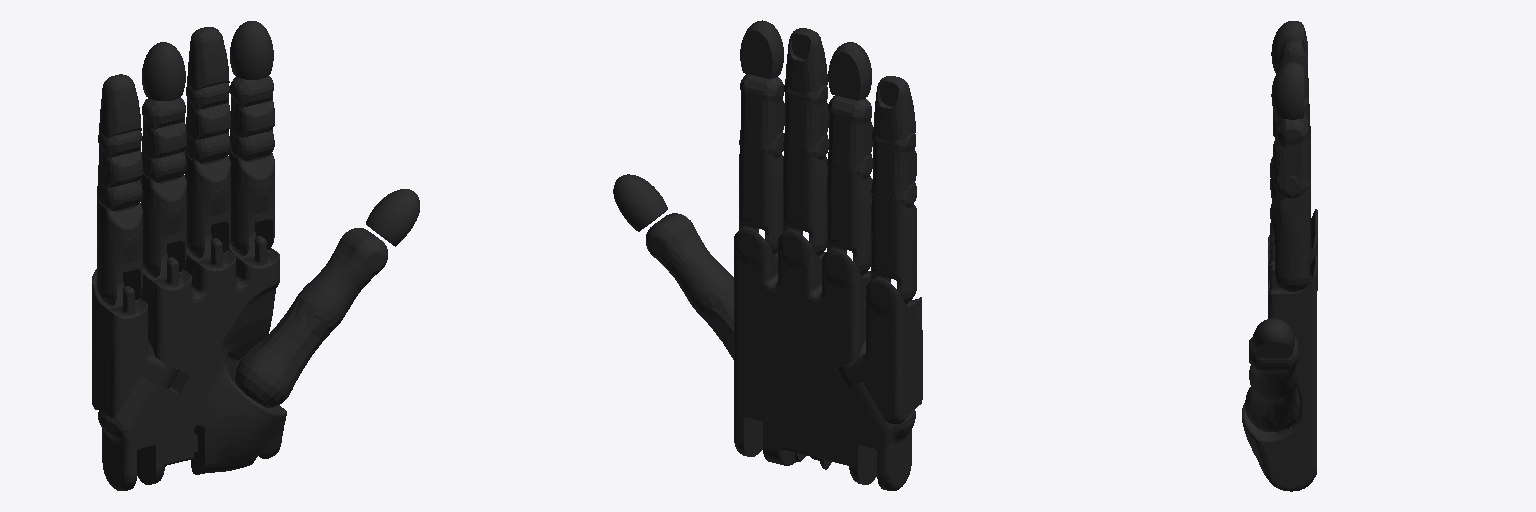
The robot description file, URDF, robot "shadowhand":
<robot name="shadowhand">
  <material name="Blue">
    <color rgba="0.0 0.0 0.8 1.0" />
  </material>
  <material name="Green">
    <color rgba="0.0 0.8 0.0 1.0" />
  </material>
  <material name="Grey">
    <color rgba="0.2 0.2 0.2 1.0" />
  </material>
  <material name="LightGrey">
    <color rgba="0.6 0.6 0.6 1.0" />
  </material>
  <material name="Red">
    <color rgba="0.8 0.0 0.0 1.0" />
  </material>
  <material name="White">
    <color rgba="1.0 1.0 1.0 1.0" />
  </material>
  <link name="palm">
    <inertial>
      <origin rpy="0 0 0" xyz="0 0 0.035" />
      <mass value="0.3" />
      <inertia ixx="0.5" ixy="0.0" ixz="0.0" iyy="0.5" iyz="0.0" izz="0.3" />
    </inertial>
    <visual>
      <origin rpy="0 0 0" xyz="0 0 0" />
      <geometry name="palm_visual">
        <mesh filename="meshes/palm.obj" scale="0.1 0.1 0.1" />
      </geometry>
      <material name="Grey" />
    </visual>
    <collision>
      <origin rpy="0 0 0" xyz="0.005 0 0.035" />
      <geometry name="palm_collision_geom">
        <box size="0.05 0.02 0.07" />
      </geometry>
    </collision>
  </link>
  <link name="ffknuckle">
    <inertial>
      <origin rpy="0 0 0" xyz="0 0 0" />

      <mass value="0.008" />
      <inertia ixx="0.0" ixy="0.0" ixz="0.0" iyy="0.1" iyz="0.0" izz="0.0" />
    </inertial>
  </link>
  <joint name="FFJ4" type="revolute">
    <parent link="palm" />
    <child link="ffknuckle" />

    <origin rpy="0 0 0" xyz="0.033 0 0.095" />
    <axis xyz="0 -1 0" />
    <limit effort="0" lower="-0.43633231299858238" upper="0.43633231299858238" velocity="1.0" />
    <dynamics damping="0" />
  </joint>
  <link name="ffproximal">
    <inertial>
      <mass value="0.014" />
      <origin xyz="0 0 0.0225" />
      <inertia ixx="0.1" ixy="0.0" ixz="0.0" iyy="0.1" iyz="0.0" izz="0.0" />
    </inertial>
    <visual>
      <origin rpy="0 0 0" xyz="0 0 0" />
      <geometry name="proximal_visual">
        <mesh filename="meshes/F3.obj" scale="0.1 0.1 0.1" />
      </geometry>
      <material name="Grey" />
    </visual>
    <collision>
      <origin rpy="0 0 0 " xyz="0 0 0.025" />
      <geometry name="proximal_collision_geom">
        <box size="0.008 0.008 0.04" />
      </geometry>
    </collision>
  </link>
  <joint name="FFJ3" type="revolute">
    <parent link="ffknuckle" />
    <child link="ffproximal" />
    <origin rpy="0 0 0" xyz="0 0 0" />
    <axis xyz="1 0 0" />
    <limit effort="0" lower="-1.57079632679" upper="1.57079632679" velocity="1.0" />
    <dynamics damping="0" />
  </joint>
  <link name="ffmiddle">
    <inertial>
      <origin rpy="0 0 0" xyz="0 0 0.0125" />
      <mass value="0.012" />
      <inertia ixx="0.1" ixy="0.0" ixz="0.0" iyy="0.1" iyz="0.0" izz="0.0" />
    </inertial>
    <visual>
      <origin rpy="0 0 0" xyz="0 0 0" />
      <geometry name="middle_visual">
        <mesh filename="meshes/F2.obj" scale="0.1 0.1 0.1" />
      </geometry>
      <material name="Grey" />
    </visual>
    <collision>
      <origin rpy="0 0 0" xyz="0 0 0.0125" />
      <geometry name="middle_collision_geom">
        <box size="0.008 0.008 0.015" />
      </geometry>
    </collision>
  </link>
  <joint name="FFJ2" type="revolute">
    <parent link="ffproximal" />
    <child link="ffmiddle" />
    <origin rpy="0 0 0" xyz="0 0 0.045" />
    <axis xyz="1 0 0" />
    <limit effort="0" lower="-1.57079632679" upper="1.57079632679" velocity="1.0" />
    <dynamics damping="0" />
  </joint>
  <link name="ffdistal">
    <inertial>
      <mass value="0.010" />
      <origin xyz="0 0 0.013" />
      <inertia ixx="0.1" ixy="0.0" ixz="0.0" iyy="0.1" iyz="0.0" izz="0.0" />
    </inertial>
    <visual>
      <origin rpy="0 0 0" xyz="0 0 0" />
      <geometry name="distal_visual">
        <mesh filename="meshes/distal_ellipsoid.obj" scale="0.1 0.1 0.1" />
      </geometry>
      <material name="Grey" />
    </visual>

    <collision>
      <origin rpy="0 0 0" xyz="0 0 0" />
      <geometry name="distal_collision_geom">
        <mesh filename="meshes/distal_ellipsoid.obj" scale="0.1 0.1 0.1" />
      </geometry>
    </collision>
  </link>
  <joint name="FFJ1" type="revolute">
    <parent link="ffmiddle" />
    <child link="ffdistal" />
    <origin rpy="0 0 0" xyz="0 0 0.025" />
    <axis xyz="1 0 0" />
    <limit effort="0" lower="-1.57079632679" upper="1.57079632679" velocity="1.0" />
    <dynamics damping="0" />
  </joint>
  <link name="fftip">
    <inertial>
      <mass value="0.001" />
      <inertia ixx="0.0" ixy="0.0" ixz="0.0" iyy="0.0" iyz="0.0" izz="0.0" />
    </inertial>
  </link>
  <joint name="FFtip" type="fixed">
    <parent link="ffdistal" />
    <child link="fftip" />
    <origin rpy="0 0 0" xyz="0 0 0.026" />
  </joint>
  <link name="mfknuckle">
    <inertial>
      <origin rpy="0 0 0" xyz="0 0 0" />

      <mass value="0.008" />
      <inertia ixx="0.0" ixy="0.0" ixz="0.0" iyy="0.1" iyz="0.0" izz="0.0" />
    </inertial>
  </link>
  <joint name="MFJ4" type="revolute">
    <parent link="palm" />
    <child link="mfknuckle" />

    <origin rpy="0 0 0" xyz="0.011 0 0.099" />
    <axis xyz="0 -1 0" />
    <limit effort="0" lower="-0.43633231299858238" upper="0.43633231299858238" velocity="1.0" />
    <dynamics damping="0" />
  </joint>
  <link name="mfproximal">
    <inertial>
      <mass value="0.014" />
      <origin xyz="0 0 0.0225" />
      <inertia ixx="0.1" ixy="0.0" ixz="0.0" iyy="0.1" iyz="0.0" izz="0.0" />
    </inertial>
    <visual>
      <origin rpy="0 0 0" xyz="0 0 0" />
      <geometry name="proximal_visual">
        <mesh filename="meshes/F3.obj" scale="0.1 0.1 0.1" />
      </geometry>
      <material name="Grey" />
    </visual>
    <collision>
      <origin rpy="0 0 0 " xyz="0 0 0.025" />
      <geometry name="proximal_collision_geom">
        <box size="0.008 0.008 0.04" />
      </geometry>
    </collision>
  </link>
  <joint name="MFJ3" type="revolute">
    <parent link="mfknuckle" />
    <child link="mfproximal" />
    <origin rpy="0 0 0" xyz="0 0 0" />
    <axis xyz="1 0 0" />
    <limit effort="0" lower="-1.57079632679" upper="1.57079632679" velocity="1.0" />
    <dynamics damping="0" />
  </joint>
  <link name="mfmiddle">
    <inertial>
      <origin rpy="0 0 0" xyz="0 0 0.0125" />
      <mass value="0.012" />
      <inertia ixx="0.1" ixy="0.0" ixz="0.0" iyy="0.1" iyz="0.0" izz="0.0" />
    </inertial>
    <visual>
      <origin rpy="0 0 0" xyz="0 0 0" />
      <geometry name="middle_visual">
        <mesh filename="meshes/F2.obj" scale="0.1 0.1 0.1" />
      </geometry>
      <material name="Grey" />
    </visual>
    <collision>
      <origin rpy="0 0 0" xyz="0 0 0.0125" />
      <geometry name="middle_collision_geom">
        <box size="0.008 0.008 0.015" />
      </geometry>
    </collision>
  </link>
  <joint name="MFJ2" type="revolute">
    <parent link="mfproximal" />
    <child link="mfmiddle" />
    <origin rpy="0 0 0" xyz="0 0 0.045" />
    <axis xyz="1 0 0" />
    <limit effort="0" lower="-1.57079632679" upper="1.57079632679" velocity="1.0" />
    <dynamics damping="0" />
  </joint>
  <link name="mfdistal">
    <inertial>
      <mass value="0.010" />
      <origin xyz="0 0 0.013" />
      <inertia ixx="0.1" ixy="0.0" ixz="0.0" iyy="0.1" iyz="0.0" izz="0.0" />
    </inertial>
    <visual>
      <origin rpy="0 0 0" xyz="0 0 0" />
      <geometry name="distal_visual">
        <mesh filename="meshes/F1.obj" scale="0.1 0.1 0.1" />
      </geometry>
      <material name="Grey" />
    </visual>

    <collision>
      <origin rpy="0 0 0" xyz="0 0 0" />
      <geometry name="distal_collision_geom">
        <mesh filename="meshes/F1.obj" scale="0.1 0.1 0.1" />
      </geometry>
    </collision>
  </link>
  <joint name="MFJ1" type="revolute">
    <parent link="mfmiddle" />
    <child link="mfdistal" />
    <origin rpy="0 0 0" xyz="0 0 0.025" />
    <axis xyz="1 0 0" />
    <limit effort="0" lower="-1.57079632679" upper="1.57079632679" velocity="1.0" />
    <dynamics damping="0" />
  </joint>
  <link name="mftip">
    <inertial>
      <mass value="0.001" />
      <inertia ixx="0.0" ixy="0.0" ixz="0.0" iyy="0.0" iyz="0.0" izz="0.0" />
    </inertial>
  </link>
  <joint name="MFtip" type="fixed">
    <parent link="mfdistal" />
    <child link="mftip" />
    <origin rpy="0 0 0" xyz="0 0 0.026" />
  </joint>
  <link name="rfknuckle">
    <inertial>
      <origin rpy="0 0 0" xyz="0 0 0" />

      <mass value="0.008" />
      <inertia ixx="0.0" ixy="0.0" ixz="0.0" iyy="0.1" iyz="0.0" izz="0.0" />
    </inertial>
  </link>
  <joint name="RFJ4" type="revolute">
    <parent link="palm" />
    <child link="rfknuckle" />

    <origin rpy="0 0 0" xyz="-0.011 0 0.095" />
    <axis xyz="0 -1 0" />
    <limit effort="0" lower="-0.43633231299858238" upper="0.43633231299858238" velocity="1.0" />
    <dynamics damping="0" />
  </joint>
  <link name="rfproximal">
    <inertial>
      <mass value="0.014" />
      <origin xyz="0 0 0.0225" />
      <inertia ixx="0.1" ixy="0.0" ixz="0.0" iyy="0.1" iyz="0.0" izz="0.0" />
    </inertial>
    <visual>
      <origin rpy="0 0 0" xyz="0 0 0" />
      <geometry name="proximal_visual">
        <mesh filename="meshes/F3.obj" scale="0.1 0.1 0.1" />
      </geometry>
      <material name="Grey" />
    </visual>
    <collision>
      <origin rpy="0 0 0 " xyz="0 0 0.025" />
      <geometry name="proximal_collision_geom">
        <box size="0.008 0.008 0.04" />
      </geometry>
    </collision>
  </link>
  <joint name="RFJ3" type="revolute">
    <parent link="rfknuckle" />
    <child link="rfproximal" />
    <origin rpy="0 0 0" xyz="0 0 0" />
    <axis xyz="1 0 0" />
    <limit effort="0" lower="-1.57079632679" upper="1.57079632679" velocity="1.0" />
    <dynamics damping="0" />
  </joint>
  <link name="rfmiddle">
    <inertial>
      <origin rpy="0 0 0" xyz="0 0 0.0125" />
      <mass value="0.012" />
      <inertia ixx="0.1" ixy="0.0" ixz="0.0" iyy="0.1" iyz="0.0" izz="0.0" />
    </inertial>
    <visual>
      <origin rpy="0 0 0" xyz="0 0 0" />
      <geometry name="middle_visual">
        <mesh filename="meshes/F2.obj" scale="0.1 0.1 0.1" />
      </geometry>
      <material name="Grey" />
    </visual>
    <collision>
      <origin rpy="0 0 0" xyz="0 0 0.0125" />
      <geometry name="middle_collision_geom">
        <box size="0.008 0.008 0.015" />
      </geometry>
    </collision>
  </link>
  <joint name="RFJ2" type="revolute">
    <parent link="rfproximal" />
    <child link="rfmiddle" />
    <origin rpy="0 0 0" xyz="0 0 0.045" />
    <axis xyz="1 0 0" />
    <limit effort="0" lower="-1.57079632679" upper="1.57079632679" velocity="1.0" />
    <dynamics damping="0" />
  </joint>
  <link name="rfdistal">
    <inertial>
      <mass value="0.010" />
      <origin xyz="0 0 0.013" />
      <inertia ixx="0.1" ixy="0.0" ixz="0.0" iyy="0.1" iyz="0.0" izz="0.0" />
    </inertial>
    <visual>
      <origin rpy="0 0 0" xyz="0 0 0" />
      <geometry name="distal_visual">
        <mesh filename="meshes/distal_ellipsoid.obj" scale="0.1 0.1 0.1" />
      </geometry>
      <material name="Grey" />
    </visual>

    <collision>
      <origin rpy="0 0 0" xyz="0 0 0" />
      <geometry name="distal_collision_geom">
        <mesh filename="meshes/distal_ellipsoid.obj" scale="0.1 0.1 0.1" />
      </geometry>
    </collision>
  </link>
  <joint name="RFJ1" type="revolute">
    <parent link="rfmiddle" />
    <child link="rfdistal" />
    <origin rpy="0 0 0" xyz="0 0 0.025" />
    <axis xyz="1 0 0" />
    <limit effort="0" lower="-1.57079632679" upper="1.57079632679" velocity="1.0" />
    <dynamics damping="0" />
  </joint>
  <link name="rftip">
    <inertial>
      <mass value="0.001" />
      <inertia ixx="0.0" ixy="0.0" ixz="0.0" iyy="0.0" iyz="0.0" izz="0.0" />
    </inertial>
  </link>
  <joint name="RFtip" type="fixed">
    <parent link="rfdistal" />
    <child link="rftip" />
    <origin rpy="0 0 0" xyz="0 0 0.026" />
  </joint>
  <link name="lfmetacarpal">
    <inertial>
      <origin rpy="0 0 0" xyz="0 0 0.04" />
      <mass value="0.075" />
      <inertia ixx="0.1" ixy="0.0" ixz="0.0" iyy="0.1" iyz="0.0" izz="0.1" />
    </inertial>
    <visual>
      <origin rpy="0 0 0" xyz="0 0 0" />
      <geometry name="lfmetacarpal_visual">
        <mesh filename="meshes/lfmetacarpal.obj" scale="0.1 0.1 0.1" />
      </geometry>
      <material name="Grey" />
    </visual>
    <collision>
      <origin rpy="0 0 0" xyz="0 0 0.04" />
      <geometry name="lfmetacarpal_collision_geom">
        <box size="0.008 0.008 0.03" />
      </geometry>
    </collision>
  </link>
  <joint name="LFJ5" type="revolute">
    <parent link="palm" />
    <child link="lfmetacarpal" />
    <origin rpy="0 0 0" xyz="-0.033 0 0.02071" />
    <axis xyz="0.573576436 0 0.819152044" />
    <limit effort="0" lower="-0.69813170079773179" upper="0.69813170079773179" velocity="1.0" />
    <dynamics damping="0" />
  </joint>
  <link name="lfknuckle">
    <inertial>
      <origin rpy="0 0 0" xyz="0 0 0.06579" />
      <mass value="0.008" />
      <inertia ixx="0.1" ixy="0.0" ixz="0.0" iyy="0.1" iyz="0.0" izz="0.1" />
    </inertial>
  </link>
  <joint name="LFJ4" type="revolute">
    <parent link="lfmetacarpal" />
    <child link="lfknuckle" />
    <origin rpy="0 0 0" xyz="0 0 0.06579" />
    <axis xyz="0 1 0" />
    <limit effort="0" lower="-0.43633231299858238" upper="0.43633231299858238" velocity="1.0" />
    <dynamics damping="0" />
  </joint>
  <link name="lfproximal">
    <inertial>
      <mass value="0.014" />
      <origin xyz="0 0 0.0225" />
      <inertia ixx="0.1" ixy="0.0" ixz="0.0" iyy="0.1" iyz="0.0" izz="0.0" />
    </inertial>
    <visual>
      <origin rpy="0 0 0" xyz="0 0 0" />
      <geometry name="proximal_visual">
        <mesh filename="meshes/F3.obj" scale="0.1 0.1 0.1" />
      </geometry>
      <material name="Grey" />
    </visual>
    <collision>
      <origin rpy="0 0 0 " xyz="0 0 0.025" />
      <geometry name="proximal_collision_geom">
        <box size="0.008 0.008 0.04" />
      </geometry>
    </collision>
  </link>
  <joint name="LFJ3" type="revolute">
    <parent link="lfknuckle" />
    <child link="lfproximal" />
    <origin rpy="0 0 0" xyz="0 0 0" />
    <axis xyz="1 0 0" />
    <limit effort="0" lower="-1.57079632679" upper="1.57079632679" velocity="1.0" />
    <dynamics damping="0" />
  </joint>
  <link name="lfmiddle">
    <inertial>
      <origin rpy="0 0 0" xyz="0 0 0.0125" />
      <mass value="0.012" />
      <inertia ixx="0.1" ixy="0.0" ixz="0.0" iyy="0.1" iyz="0.0" izz="0.0" />
    </inertial>
    <visual>
      <origin rpy="0 0 0" xyz="0 0 0" />
      <geometry name="middle_visual">
        <mesh filename="meshes/F2.obj" scale="0.1 0.1 0.1" />
      </geometry>
      <material name="Grey" />
    </visual>
    <collision>
      <origin rpy="0 0 0" xyz="0 0 0.0125" />
      <geometry name="middle_collision_geom">
        <box size="0.008 0.008 0.015" />
      </geometry>
    </collision>
  </link>
  <joint name="LFJ2" type="revolute">
    <parent link="lfproximal" />
    <child link="lfmiddle" />
    <origin rpy="0 0 0" xyz="0 0 0.045" />
    <axis xyz="1 0 0" />
    <limit effort="0" lower="-1.57079632679" upper="1.57079632679" velocity="1.0" />
    <dynamics damping="0" />
  </joint>
  <link name="lfdistal">
    <inertial>
      <mass value="0.010" />
      <origin xyz="0 0 0.013" />
      <inertia ixx="0.1" ixy="0.0" ixz="0.0" iyy="0.1" iyz="0.0" izz="0.0" />
    </inertial>
    <visual>
      <origin rpy="0 0 0" xyz="0 0 0" />
      <geometry name="distal_visual">
        <mesh filename="meshes/F1.obj" scale="0.1 0.1 0.1" />
      </geometry>
      <material name="Grey" />
    </visual>

    <collision>
      <origin rpy="0 0 0" xyz="0 0 0" />
      <geometry name="distal_collision_geom">
        <mesh filename="meshes/F1.obj" scale="0.1 0.1 0.1" />
      </geometry>
    </collision>
  </link>
  <joint name="LFJ1" type="revolute">
    <parent link="lfmiddle" />
    <child link="lfdistal" />
    <origin rpy="0 0 0" xyz="0 0 0.025" />
    <axis xyz="1 0 0" />
    <limit effort="0" lower="-1.57079632679" upper="1.57079632679" velocity="1.0" />
    <dynamics damping="0" />
  </joint>
  <link name="lftip">
    <inertial>
      <mass value="0.001" />
      <inertia ixx="0.0" ixy="0.0" ixz="0.0" iyy="0.0" iyz="0.0" izz="0.0" />
    </inertial>
  </link>
  <joint name="LFtip" type="fixed">
    <parent link="lfdistal" />
    <child link="lftip" />
    <origin rpy="0 0 0" xyz="0 0 0.026" />
  </joint>
  <link name="thbase">
    <inertial>
      <mass value="0.010" />
      <origin rpy="0 0 0" xyz="0 0 0" />
      <inertia ixx="0.0" ixy="0.0" ixz="0.0" iyy="0.0" iyz="0.0" izz="0.1" />
    </inertial>
  </link>
  <joint name="THJ5" type="revolute">
    <parent link="palm" />
    <child link="thbase" />
    <origin rpy="0 0.785398163397 0" xyz="0.034 -0.0085 0.029" />
    <axis xyz="0 0 -1.0" />
    <limit effort="0" lower="-1.047" upper="1.047" velocity="1.0" />
    <dynamics damping="0" />
  </joint>
  <link name="thproximal">
    <inertial>
      <mass value="0.016" />
      <origin rpy="0 0 0" xyz="0 0 0.019" />
      <inertia ixx="0.1" ixy="0.0" ixz="0.0" iyy="0.1" iyz="0.0" izz="0.1" />
    </inertial>
    <visual>
      <origin rpy="0 0 0" xyz="0 0 0" />
      <geometry name="thproximal_visual">
        <mesh filename="meshes/TH3_z.obj" scale="0.1 0.1 0.1" />
      </geometry>
      <material name="shadow_thproximal_material">
        <color rgba="0.2 0.2 0.2 1.0" />
      </material>
    </visual>
    <collision>
      <origin rpy="0 0 0" xyz="0 0 0.019" />
      <geometry name="thproximal_collision_geom">
        <box size="0.008 0.008 0.020" />
      </geometry>
    </collision>
  </link>
  <joint name="THJ4" type="revolute">
    <parent link="thbase" />
    <child link="thproximal" />
    <origin rpy="0 0 0" xyz="0 0 0" />
    <axis xyz="1.0 0 0" />
    <limit effort="0" lower="-1.309" upper="1.309" velocity="1.0" />
    <dynamics damping="0" />
  </joint>
  <link name="thhub">
    <inertial>
      <mass value="0.002" />
      <origin rpy="0 0 0" xyz="0 0 0" />
      <inertia ixx="0.1" ixy="0.0" ixz="0.0" iyy="0.1" iyz="0.0" izz="0.1" />
    </inertial>
  </link>
  <joint name="THJ3" type="revolute">
    <parent link="thproximal" />
    <child link="thhub" />
    <origin rpy="0 0 0" xyz="0 0 0.038" />
    <axis xyz="1 0 0" />
    <limit effort="0" lower="-0.2618" upper="0.2618" velocity="1.0" />
    <dynamics damping="0" />
  </joint>
  <link name="thmiddle">
    <inertial>
      <mass value="0.016" />
      <origin rpy="0 0 0" xyz="0 0 0.016" />
      <inertia ixx="0.1" ixy="0.0" ixz="0.0" iyy="0.1" iyz="0.0" izz="0.1" />
    </inertial>
    <visual>
      <origin rpy="0 0 0" xyz="0 0 0" />
      <geometry name="thmiddle_visual">
        <mesh filename="meshes/TH2_z.obj" scale="0.1 0.1 0.1" />
      </geometry>
      <material name="shadow_thmiddle_material">
        <color rgba="0.2 0.2 0.2 1.0" />
      </material>
    </visual>
    <collision>
      <origin rpy="0 0 0 " xyz="0 0 0.016" />
      <geometry name="thmiddle_collision_geom">
        <box size="0.008 0.008 0.015" />
      </geometry>
    </collision>
  </link>
  <joint name="THJ2" type="revolute">
    <parent link="thhub" />
    <child link="thmiddle" />
    <origin rpy="0 0 0" xyz="0 0 0" />
    <axis xyz="0 -1 0" />
    <limit effort="0" lower="-0.5237" upper="0.5237" velocity="1.0" />
    <dynamics damping="0" />
  </joint>
  <link name="thdistal">
    <inertial>
      <mass value="0.016" />
      <origin rpy="0 0 0" xyz="0 0 0.01375" />
      <inertia ixx="0.1" ixy="0.0" ixz="0.0" iyy="0.1" iyz="0.0" izz="0.1" />
    </inertial>
    <visual>
      <origin rpy="0 0 0" xyz="0 0.002 0.0025" />
      <geometry name="thdistal_visual">
        <mesh filename="meshes/distal_ellipsoid.obj" scale="0.1 0.1 0.1" />
      </geometry>
      <material name="shadow_thmiddle_material">
        <color rgba="0.2 0.2 0.2 1.0" />
      </material>
    </visual>
    <collision>
      <origin rpy="0 0 0 " xyz="0 0.002 0.0025" />
      <geometry name="thmiddle_collision_geom">
        <mesh filename="meshes/distal_ellipsoid.obj" scale="0.1 0.1 0.1" />
      </geometry>
    </collision>
  </link>
  <joint name="THJ1" type="revolute">
    <parent link="thmiddle" />
    <child link="thdistal" />
    <origin rpy="0 0 -1.570796327" xyz="0 0 0.032" />
    <axis xyz="1 0 0" />
    <limit effort="0" lower="-1.57079632679" upper="1.57079632679" velocity="1.0" />
    <dynamics damping="0" />
  </joint>
  <link name="thtip">
    <inertial>
      <mass value="0.001" />
      <inertia ixx="0.0" ixy="0.0" ixz="0.0" iyy="0.0" iyz="0.0" izz="0.0" />
    </inertial>
  </link>
  <joint name="thtip" type="fixed">
    <parent link="thdistal" />
    <child link="thtip" />
    <origin rpy="0 0 0" xyz="0 0 0.0275" />
  </joint>
  </robot>

--- What the picture shows (computed from the rendered views, not written in the file) ---
The picture shows the robot from 3 angles, left to right: view 1: azimuth 30°, elevation 25°; view 2: azimuth 150°, elevation 25°; view 3: azimuth 270°, elevation 25°; orthographic projection.
Robot: shadowhand — 28 links, 27 joints (22 revolute, 5 fixed); root link palm; default pose: every joint at zero.
Visible links, largest first — view 1: palm, lfmetacarpal, thproximal, thmiddle, lfproximal, rfproximal, mfproximal, ffproximal, rfmiddle, ffmiddle, lfmiddle, mfmiddle (+5 smaller); view 2: palm, lfmetacarpal, thmiddle, lfproximal, rfproximal, mfproximal, ffproximal, rfmiddle, ffmiddle, lfmiddle, mfmiddle, mfdistal (+5 smaller); view 3: palm, ffproximal, ffmiddle, thmiddle, thproximal, ffdistal, thdistal, mfdistal, rfdistal.
Boxes of the visible links, box(x1,y1,x2,y2) form: palm: box(98, 223, 286, 490); lfmetacarpal: box(92, 269, 179, 417); thproximal: box(235, 297, 332, 407); thmiddle: box(295, 228, 387, 330); lfproximal: box(97, 196, 142, 305); rfproximal: box(141, 173, 186, 277); mfproximal: box(185, 149, 230, 258); ffproximal: box(229, 150, 274, 255); rfmiddle: box(142, 97, 186, 182); ffmiddle: box(230, 76, 274, 160); lfmiddle: box(97, 130, 142, 210); mfmiddle: box(186, 83, 230, 163); palm: box(734, 228, 915, 490); lfmetacarpal: box(835, 278, 922, 423); thmiddle: box(646, 213, 733, 315); lfproximal: box(871, 194, 916, 304); rfproximal: box(827, 165, 872, 275); mfproximal: box(783, 146, 827, 256); ffproximal: box(739, 144, 783, 254); rfmiddle: box(827, 95, 872, 178); ffmiddle: box(739, 74, 784, 157); lfmiddle: box(871, 132, 916, 207); mfmiddle: box(783, 85, 828, 159); mfdistal: box(785, 28, 827, 93); palm: box(1242, 212, 1317, 491); ffproximal: box(1270, 182, 1310, 291); ffmiddle: box(1273, 114, 1310, 197); thmiddle: box(1249, 336, 1297, 398); thproximal: box(1245, 386, 1299, 431); ffdistal: box(1271, 62, 1303, 119); thdistal: box(1252, 318, 1294, 357); mfdistal: box(1276, 37, 1307, 98); rfdistal: box(1271, 21, 1303, 72).
Bounding box of the posed robot: 0.1543 × 0.0343 × 0.2096 m (x, y, z).
17 mesh visuals loaded from 8 distinct referenced files (8 OBJ).